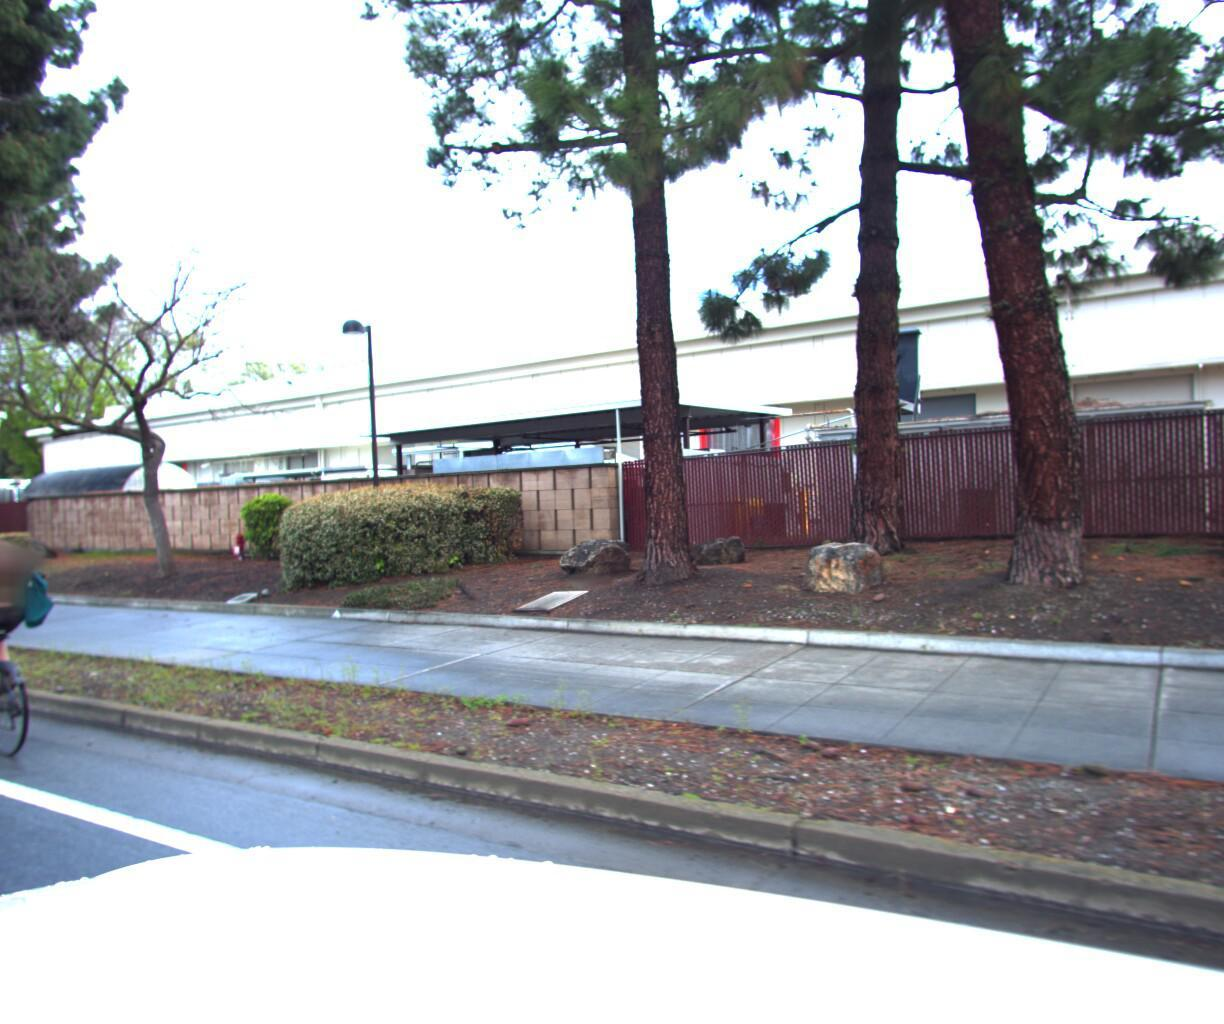bicycle: (0, 508, 112, 777)
